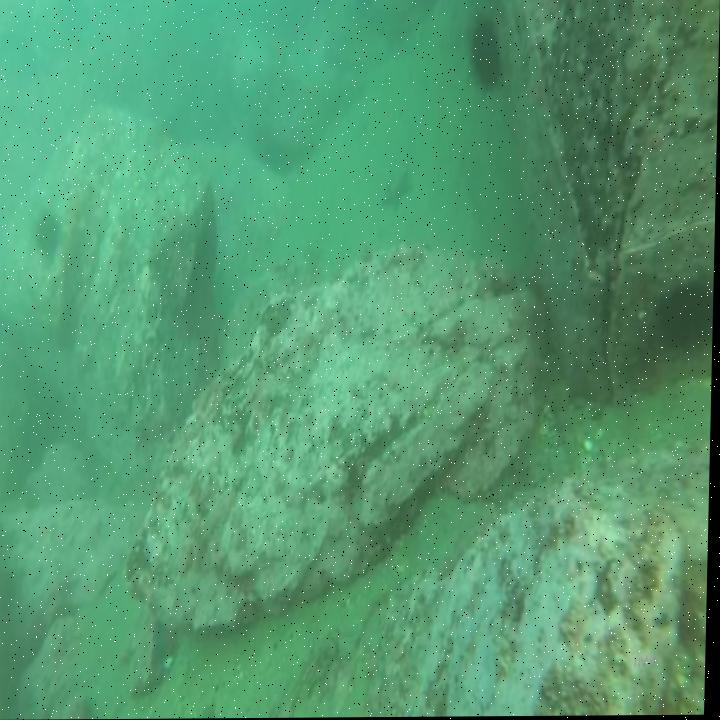echinus: (467, 15, 507, 92), (32, 204, 62, 261)
starfish: (382, 168, 417, 216)
